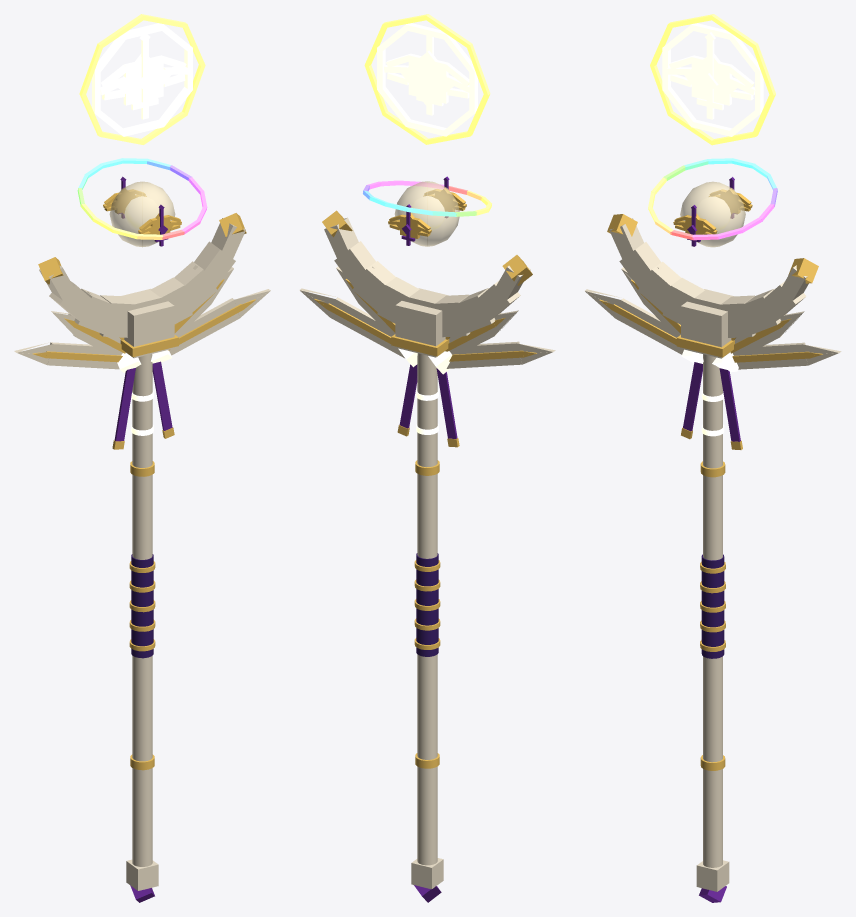
The picture shows the model from 3 angles, left to right: view 1: azimuth 30°, elevation 25°; view 2: azimuth 150°, elevation 25°; view 3: azimuth 330°, elevation 25°; orthographic projection.
Visible parts, largest first — view 1: twin-moon-sovereign; view 2: twin-moon-sovereign; view 3: twin-moon-sovereign.
Boxes of the visible parts, x1=… form: twin-moon-sovereign: x1=14, y1=14, x2=270, y2=902; twin-moon-sovereign: x1=299, y1=14, x2=555, y2=902; twin-moon-sovereign: x1=585, y1=14, x2=841, y2=902.
Bounding box in the file's own units: 0.6834 × 2.28 × 0.2916.
